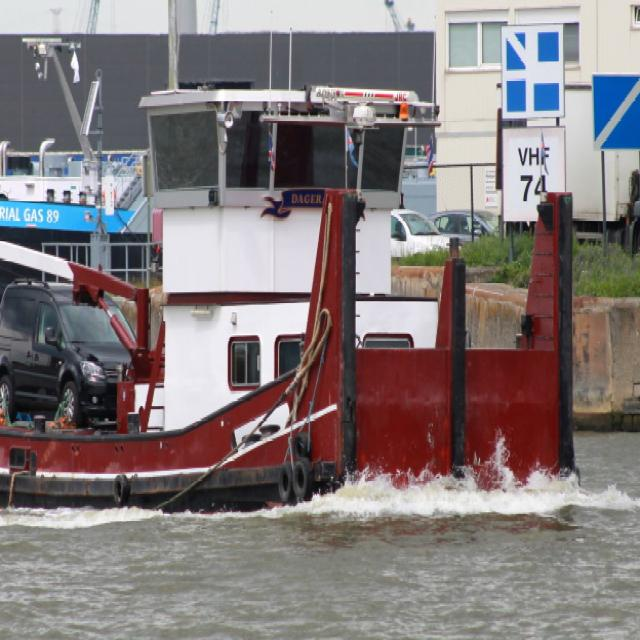tugboat: (1, 81, 588, 536)
